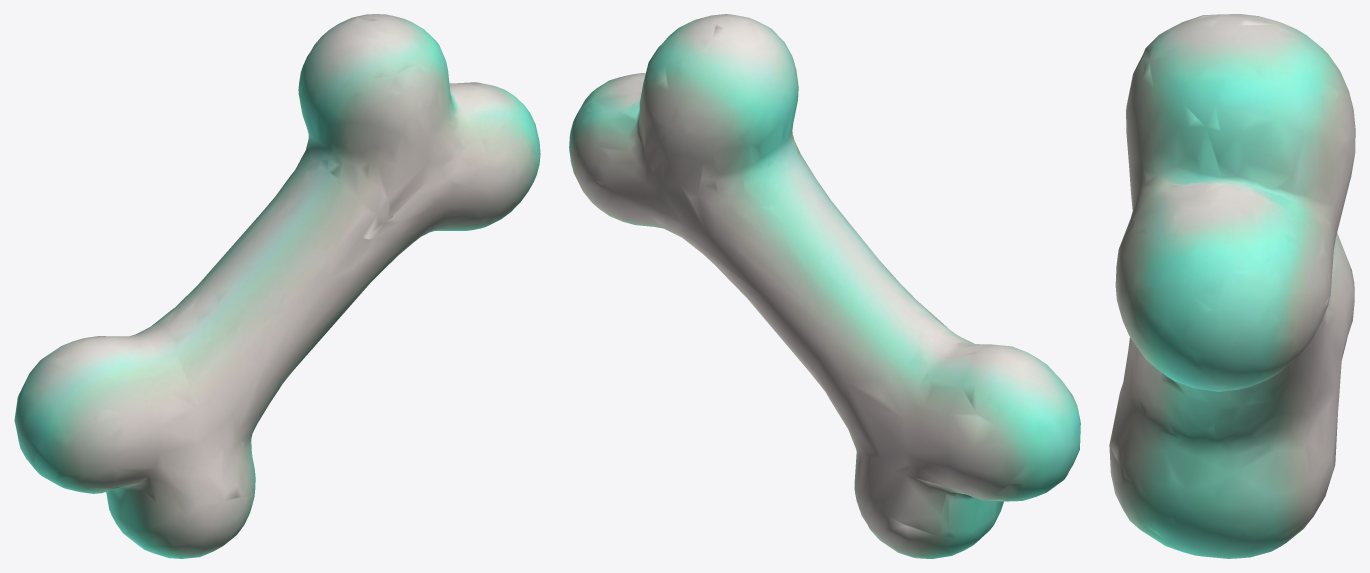
The model's file is wyrex_hueso.glb.
The picture shows the model from 3 angles, left to right: view 1: azimuth 30°, elevation 25°; view 2: azimuth 150°, elevation 25°; view 3: azimuth 270°, elevation 25°; orthographic projection. The views are drawn at different scales.
Parts seen in each view (by area): view 1: geometry_0; view 2: geometry_0; view 3: geometry_0.
Part boxes in pixels (x1=…): geometry_0: x1=14, y1=14, x2=540, y2=558; geometry_0: x1=569, y1=14, x2=1080, y2=558; geometry_0: x1=1109, y1=14, x2=1355, y2=558.
Size of the model in its own units: 1.1 by 1 by 0.3341.
Materials: 1 (1 with a texture image).
